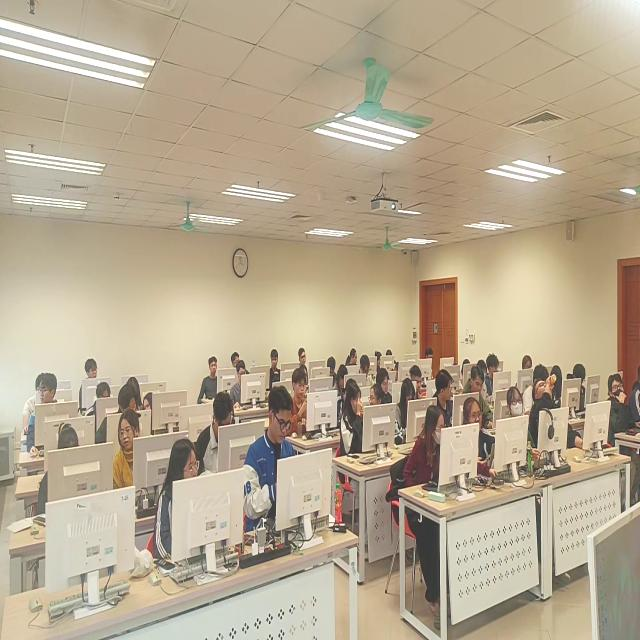raise_head: (156, 436, 202, 566), (531, 377, 576, 454), (507, 385, 535, 472), (463, 397, 494, 470), (609, 372, 631, 448), (197, 355, 220, 404), (82, 355, 102, 381), (270, 350, 281, 389), (230, 351, 242, 370), (299, 345, 308, 368)
using_computer: (37, 422, 81, 525), (405, 401, 447, 491), (198, 389, 233, 479), (101, 385, 138, 448), (465, 363, 493, 426), (22, 372, 45, 440), (397, 380, 419, 446), (524, 362, 547, 416), (85, 384, 113, 425), (232, 358, 250, 409), (572, 363, 588, 414), (487, 351, 501, 398), (553, 365, 567, 408), (633, 365, 640, 439), (360, 351, 375, 385), (410, 362, 424, 398), (334, 360, 349, 392), (425, 347, 436, 382), (478, 359, 489, 393), (461, 357, 471, 391), (327, 353, 337, 384), (348, 347, 360, 372), (375, 349, 383, 373), (523, 355, 533, 371)
using_phone: (245, 383, 297, 540), (293, 370, 311, 436)
